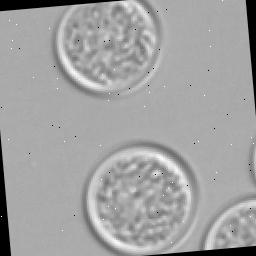picoshell: (82, 142, 200, 256), (52, 0, 162, 98), (196, 195, 256, 250)
